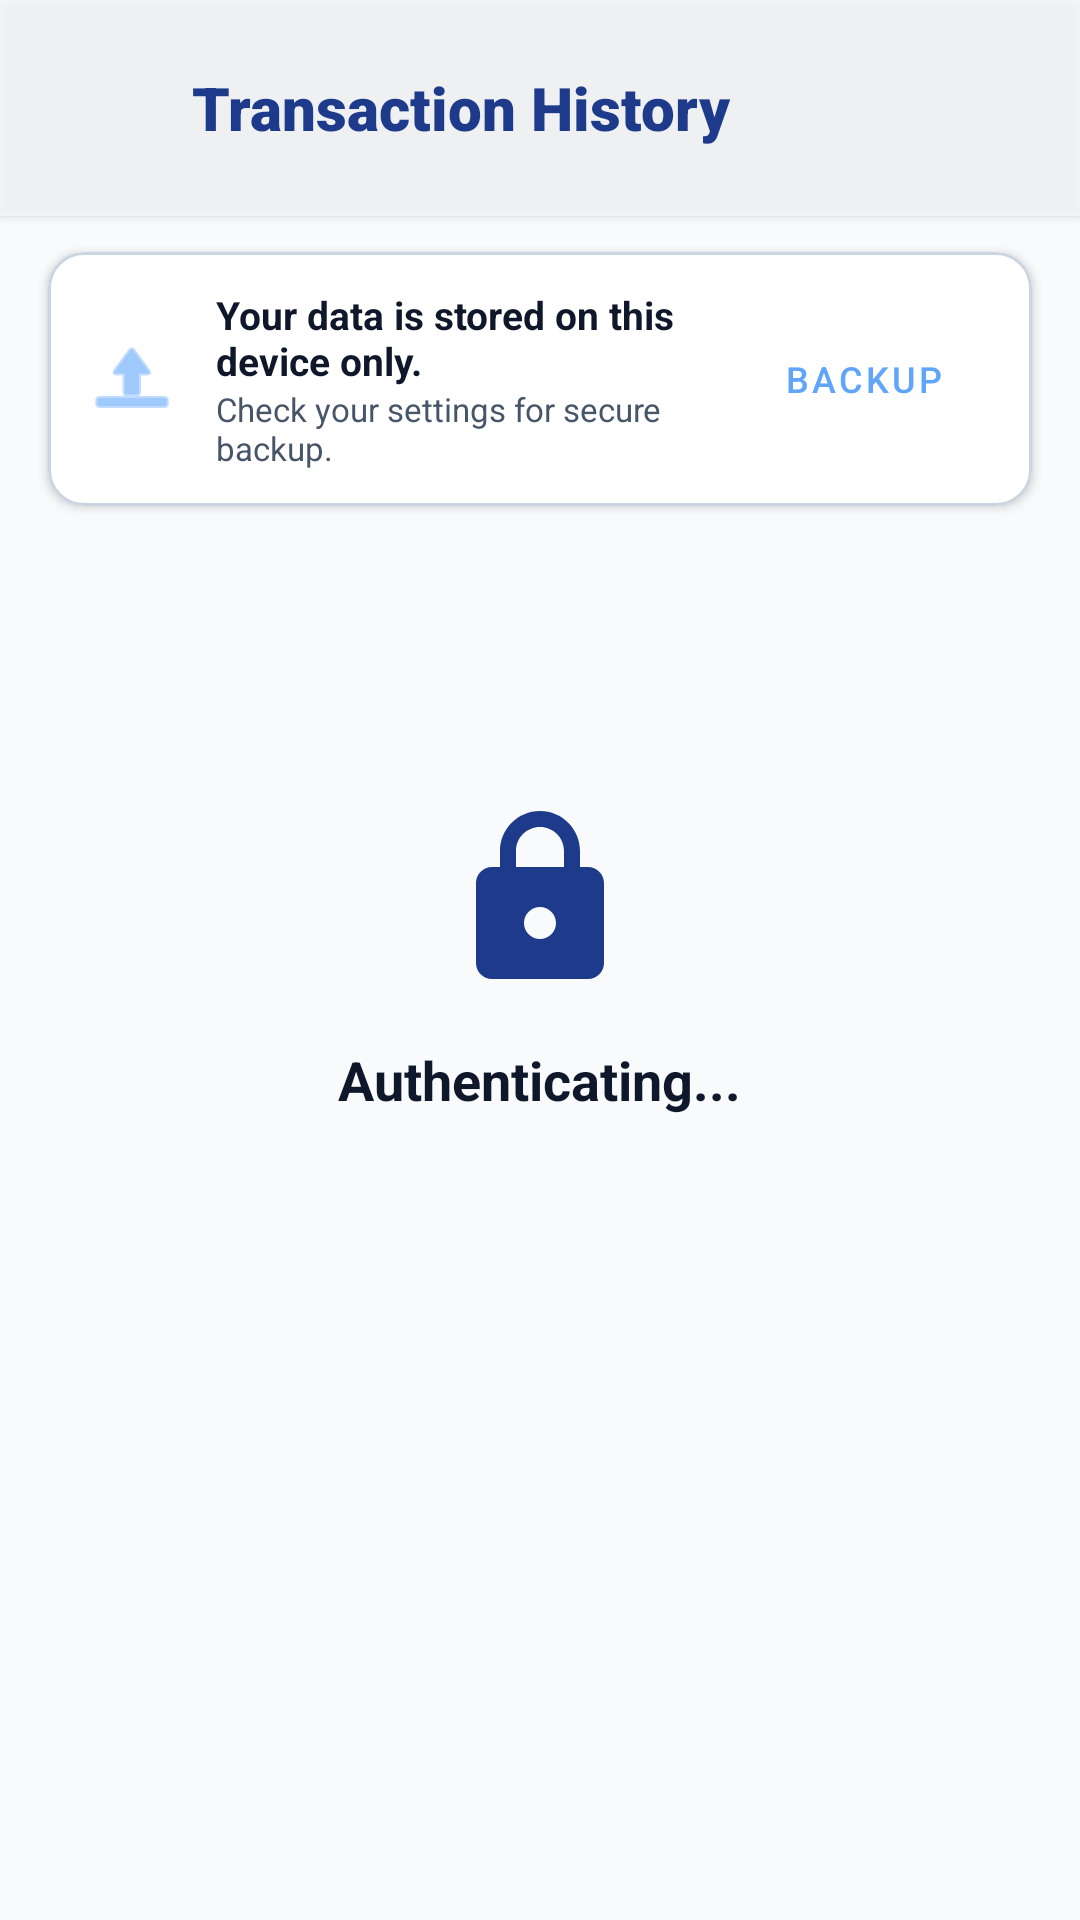

Icon click points for this 1080px×1920px phone screenshot, format (x=x, y=y):
lock: (x=540, y=895)
upload: (x=132, y=377)
